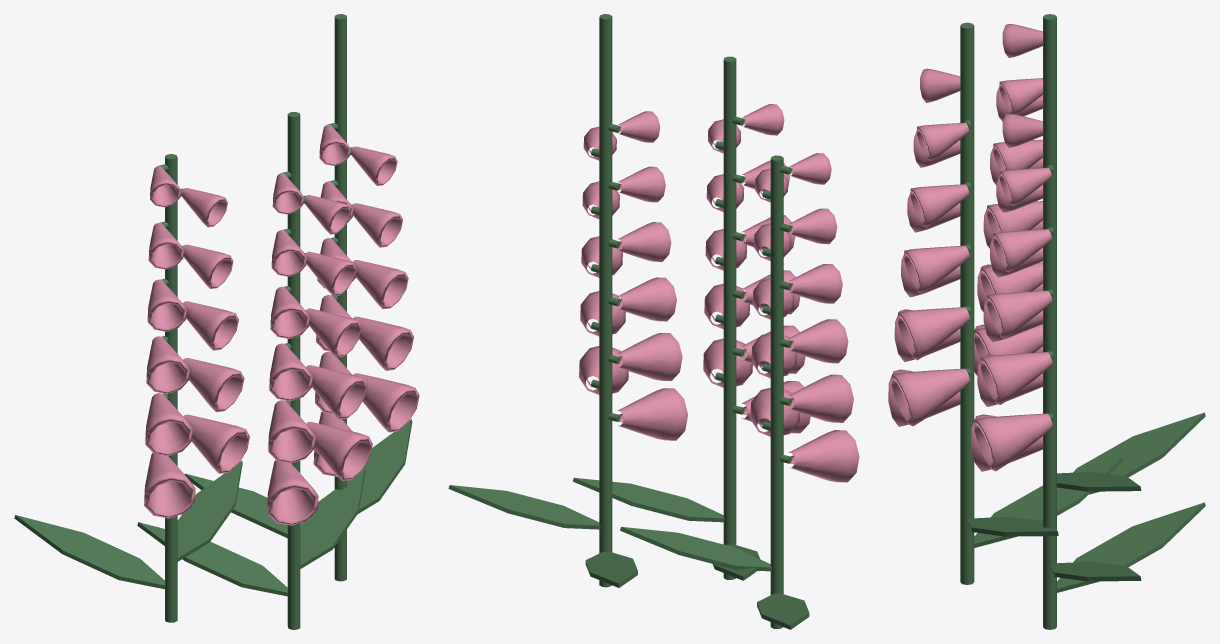
The model's file is almanac-gardens-foxglove-spires-1fd8190c__22047.glb.
3 views of the same model, side by side, from view 1: azimuth 30°, elevation 25°; view 2: azimuth 150°, elevation 25°; view 3: azimuth 270°, elevation 25° (orthographic). The views are drawn at different scales.
Parts seen in each view (by area): view 1: foxglove-spires-pink, foxglove-spires-leaf; view 2: foxglove-spires-pink, foxglove-spires-leaf; view 3: foxglove-spires-pink, foxglove-spires-leaf.
Part boxes in pixels (bbox=[...]): foxglove-spires-pink: bbox=[144, 124, 419, 525]; foxglove-spires-leaf: bbox=[14, 14, 412, 629]; foxglove-spires-pink: bbox=[579, 104, 859, 482]; foxglove-spires-leaf: bbox=[448, 14, 809, 629]; foxglove-spires-pink: bbox=[888, 24, 1052, 471]; foxglove-spires-leaf: bbox=[960, 14, 1205, 629].
Size of the model in its own units: 0.7818 by 1.14 by 0.5378.
